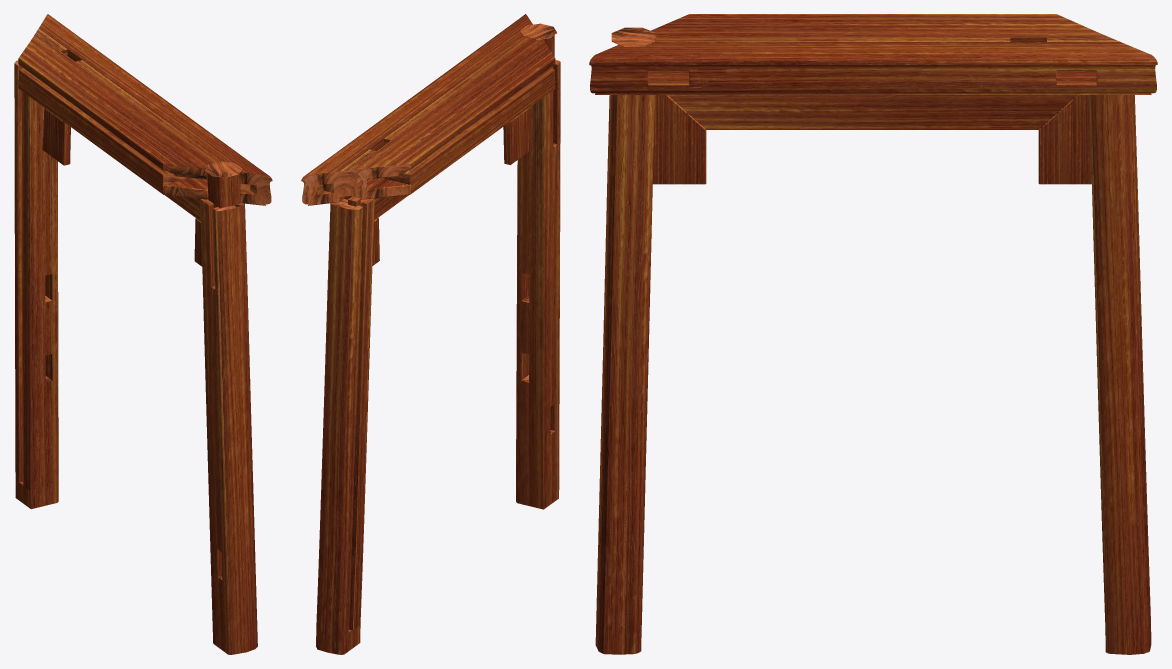
File: GMY_J_H_motou_01.FBX
The picture shows the model from 3 angles, left to right: view 1: azimuth 30°, elevation 25°; view 2: azimuth 150°, elevation 25°; view 3: azimuth 270°, elevation 25°; orthographic projection. The views are drawn at different scales.
Visible parts, largest first — view 1: GMY_J_motou_01; view 2: GMY_J_motou_01; view 3: GMY_J_motou_01.
Part boxes in pixels (bbox=[...]): GMY_J_motou_01: bbox=[14, 14, 272, 654]; GMY_J_motou_01: bbox=[301, 14, 560, 654]; GMY_J_motou_01: bbox=[589, 14, 1157, 654].
Bounding box in the file's own units: 8.16 × 52.54 × 44.85.
